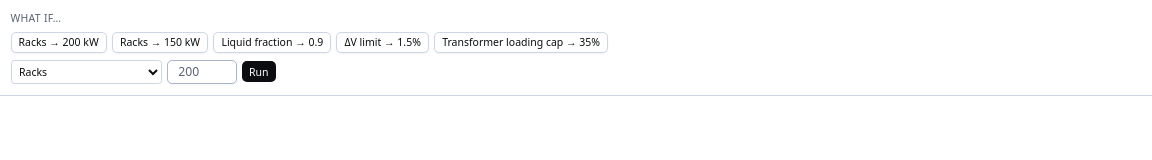
an unreachable engine explains that precomputed chips still work
The width and height of the screenshot is (1152, 160).
Select "ΔV limit" in the dropdown named "What-if parameter". click: (86, 72)
box: [10,60,162,84]
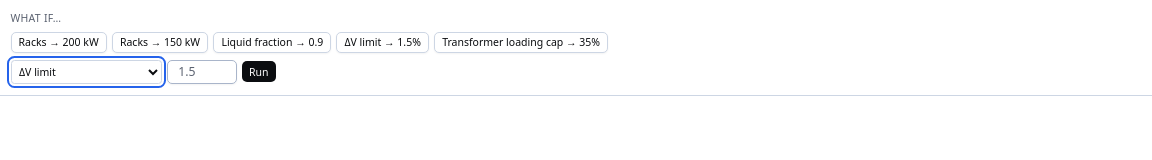
Type "1.8" into the field named "What-if value". click: (202, 72)
box: [167,60,237,84]
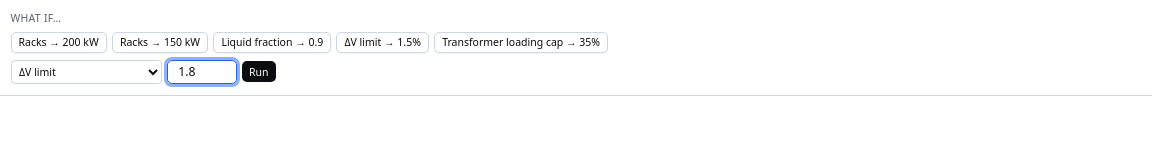
Click the button "Run". click: (259, 72)
box: [242,61,276,82]
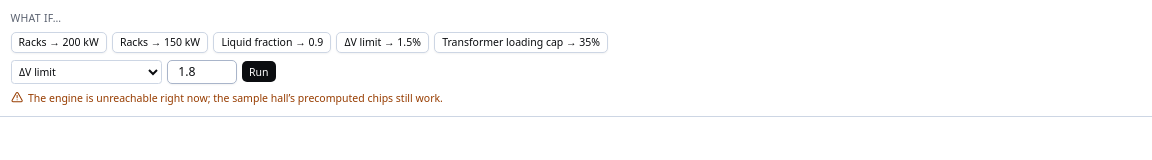
Expected: the message shows "precomputed chips still work", [28,91,443,105]
